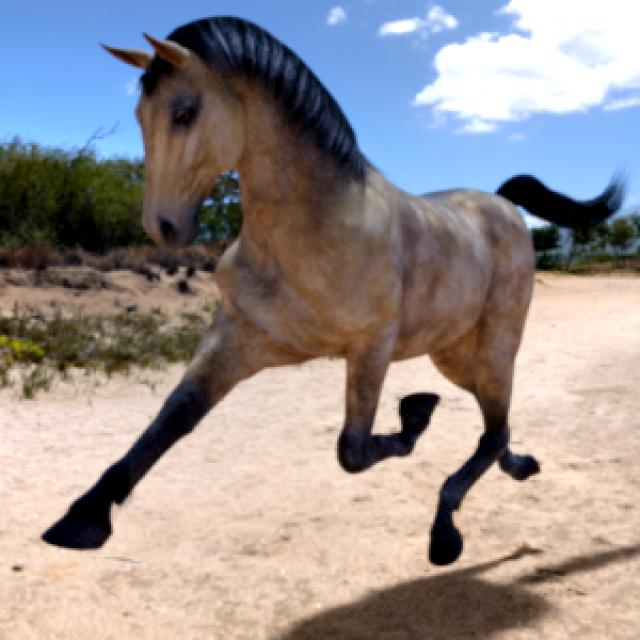horse: (44, 18, 624, 564)
